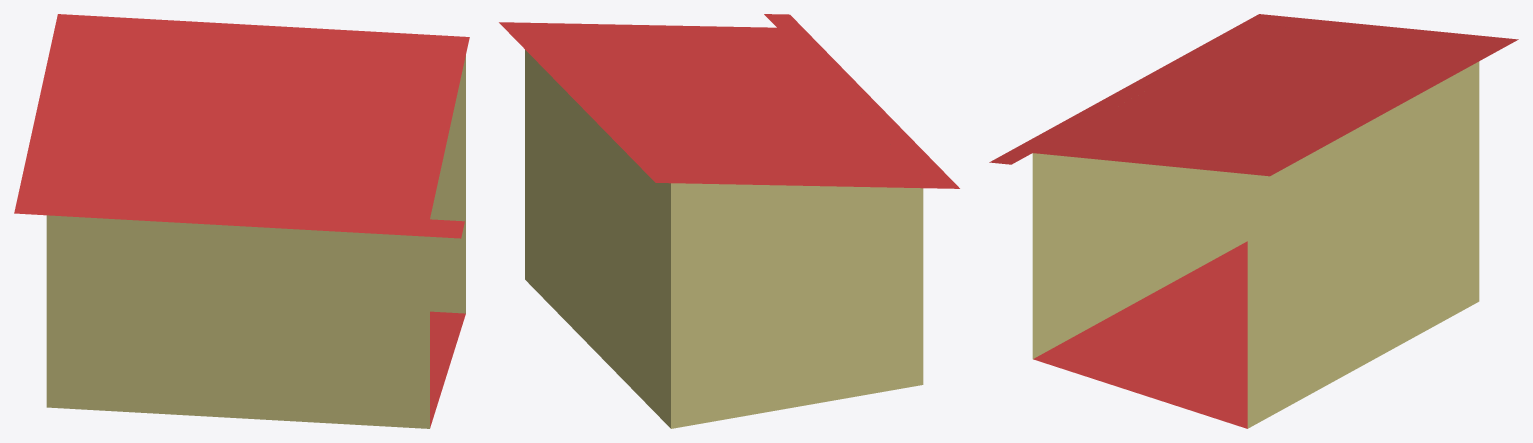
3 views of the same model, side by side, from view 1: azimuth 30°, elevation 25°; view 2: azimuth 150°, elevation 25°; view 3: azimuth 270°, elevation 25° (orthographic).
Size of the model in its own units: 13.82 by 13.99 by 7.57.
